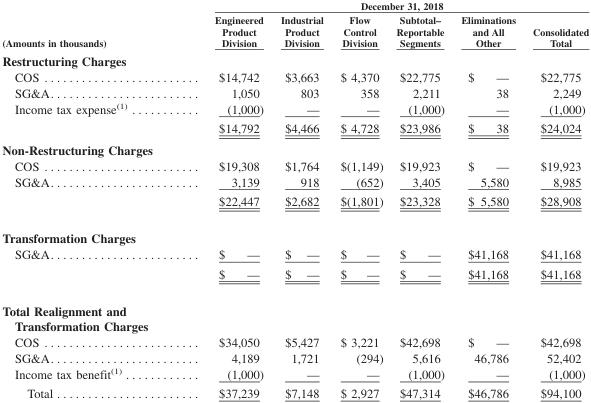table: (1, 0, 588, 400)
table column: (1, 0, 171, 400), (171, 0, 271, 400), (452, 0, 523, 400), (523, 0, 588, 400), (389, 0, 452, 400), (271, 0, 331, 400), (331, 0, 389, 400)
table column header: (1, 0, 588, 51)
table projected row header: (1, 292, 588, 334), (1, 220, 588, 247), (1, 139, 588, 158), (1, 51, 588, 69)
table row: (1, 292, 588, 334), (1, 13, 588, 51), (1, 191, 588, 220), (1, 264, 588, 292), (1, 220, 588, 247), (1, 119, 588, 139), (1, 100, 588, 119), (1, 139, 588, 158), (1, 365, 588, 384), (1, 51, 588, 69), (1, 174, 588, 191), (1, 247, 588, 264), (1, 69, 588, 85), (1, 158, 588, 174), (1, 334, 588, 350), (1, 384, 588, 400), (1, 85, 588, 100), (1, 350, 588, 365), (1, 0, 588, 13)
table spanning cell: (1, 0, 171, 51), (171, 0, 588, 13)
